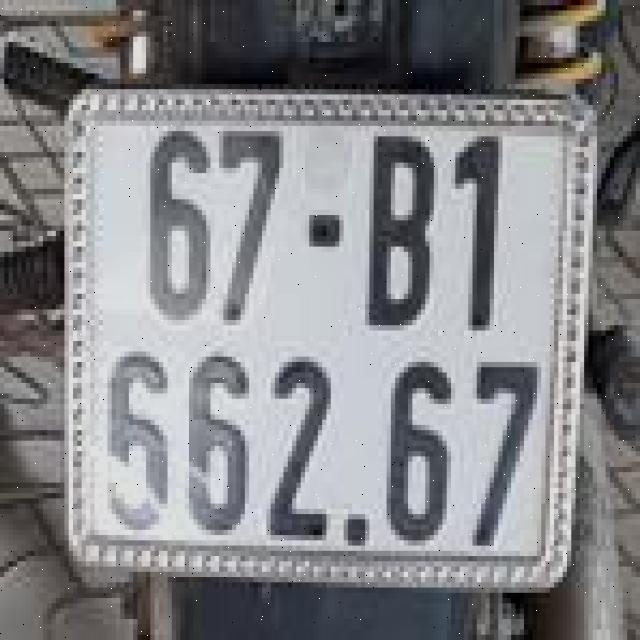1: (442, 126, 516, 346)
2: (271, 344, 339, 548)
6: (96, 328, 182, 543), (131, 126, 217, 330), (378, 347, 455, 540), (180, 347, 253, 540)
7: (464, 341, 541, 567), (211, 129, 292, 333)
B: (363, 124, 445, 338)
